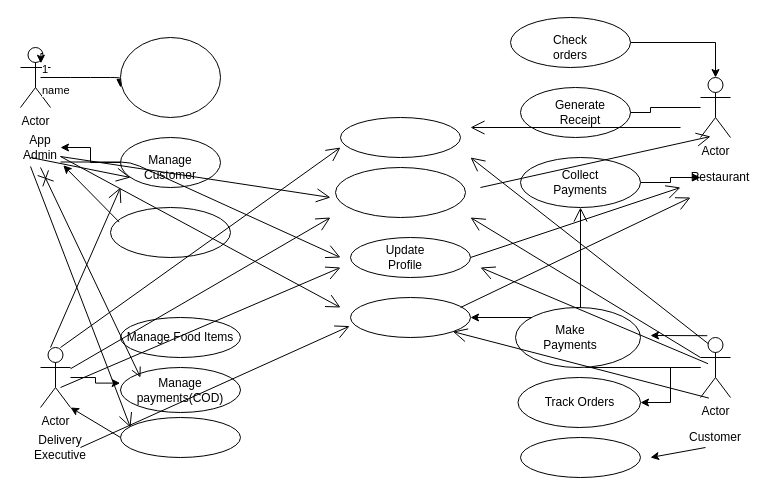
This 767x495 diagram has some shape labels left out. The centre of each missing label's shape, as x and y in pixels:
Change Account Password: pixel 410 317
Login And Logout: pixel 400 192
Manage Delivery: pixel 180 437
Manage Order: pixel 170 232
Manage Users and Full Application.: pixel 170 77
New User Registration: pixel 400 137
Place orders: pixel 580 457
